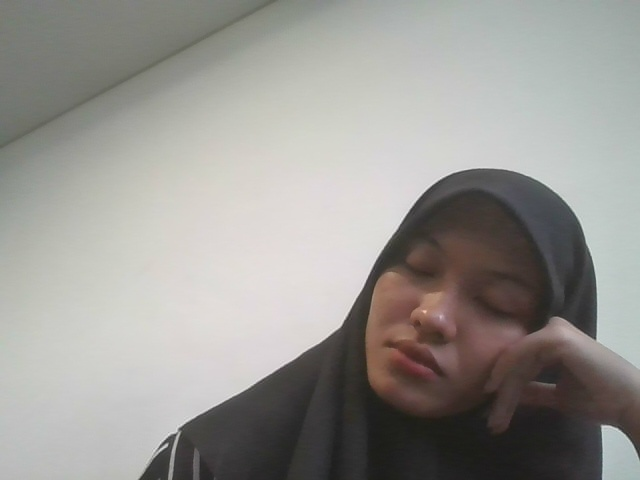Drowsy: (352, 123, 601, 458)
